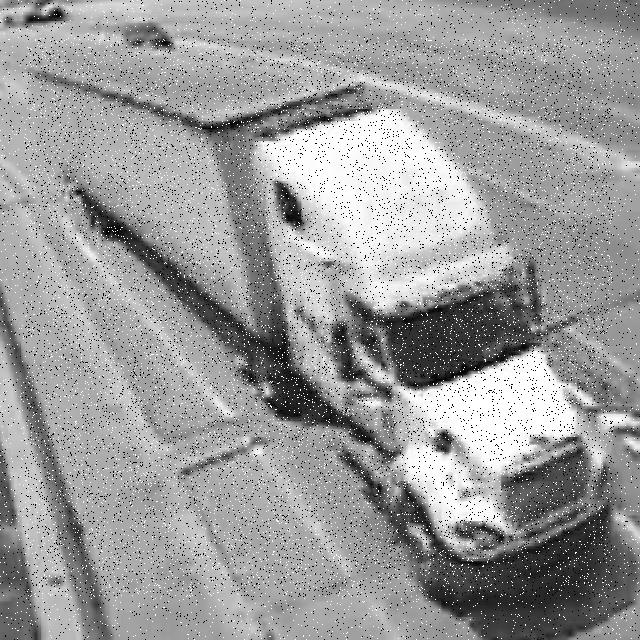Tractor Trailer: (25, 39, 612, 597)
